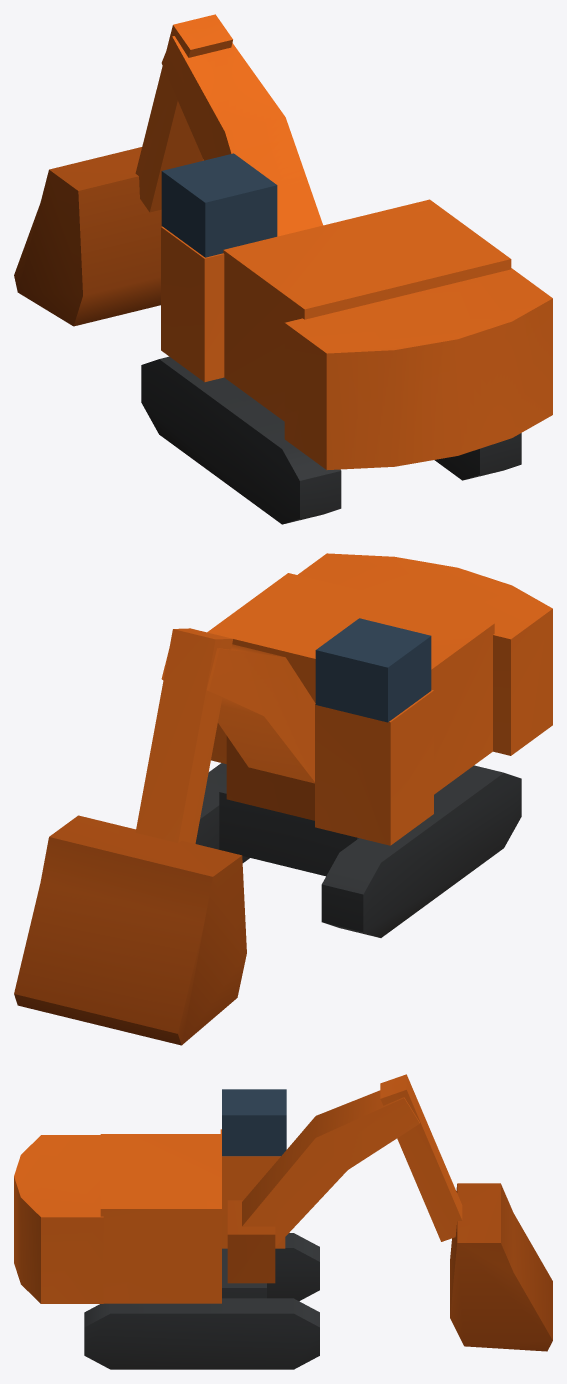
3 views of the same model, one above another, from view 1: azimuth 30°, elevation 25°; view 2: azimuth 150°, elevation 25°; view 3: azimuth 270°, elevation 25° (orthographic). The views are drawn at different scales.
Visible parts, largest first — view 1: upper, bucket, base, boom, stick; view 2: upper, bucket, base, stick, boom; view 3: upper, base, bucket, boom, stick.
Part boxes in pixels (x1=…): upper: x1=161, y1=153, x2=552, y2=469; bucket: x1=14, y1=147, x2=203, y2=326; base: x1=141, y1=356, x2=521, y2=524; boom: x1=161, y1=36, x2=323, y2=236; stick: x1=135, y1=14, x2=232, y2=212; upper: x1=207, y1=553, x2=552, y2=845; bucket: x1=14, y1=815, x2=246, y2=1045; base: x1=195, y1=763, x2=521, y2=937; stick: x1=135, y1=628, x2=232, y2=843; boom: x1=161, y1=644, x2=315, y2=783; upper: x1=14, y1=1089, x2=286, y2=1303; base: x1=84, y1=1233, x2=319, y2=1369; bucket: x1=450, y1=1183, x2=552, y2=1351; boom: x1=242, y1=1090, x2=419, y2=1246; stick: x1=380, y1=1074, x2=462, y2=1241.
Size of the model in its own units: 6.95 by 9.69 by 19.13.
